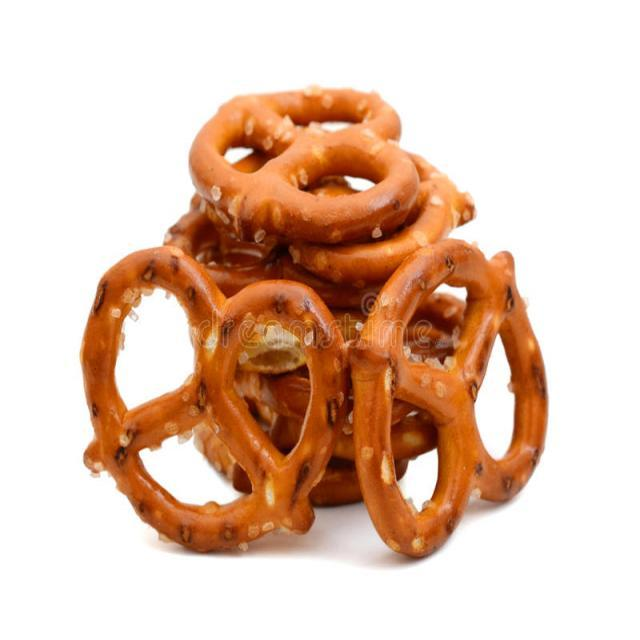Salatini: (73, 86, 549, 563)
